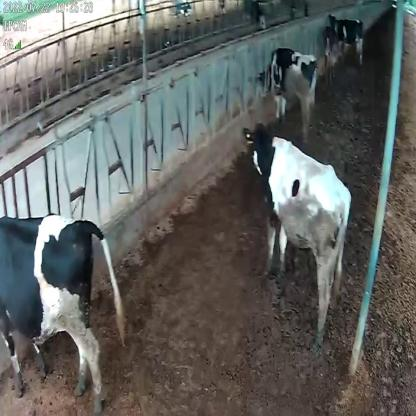cow: (242, 118, 350, 348), (255, 46, 316, 136)
